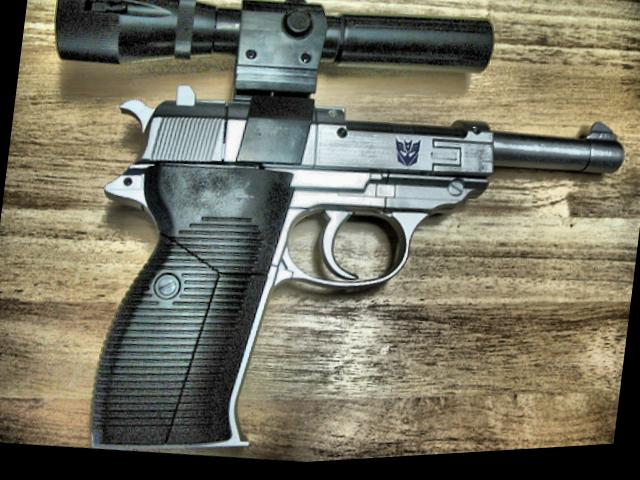pistol: (74, 54, 629, 477)
